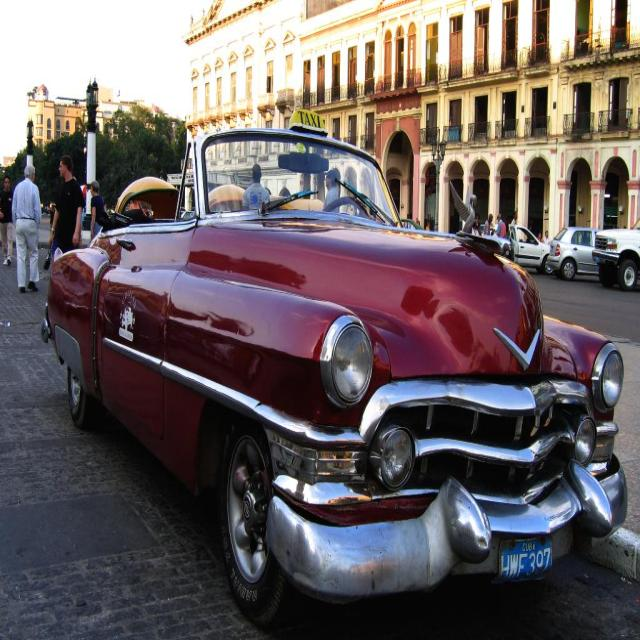car: (36, 137, 592, 606)
